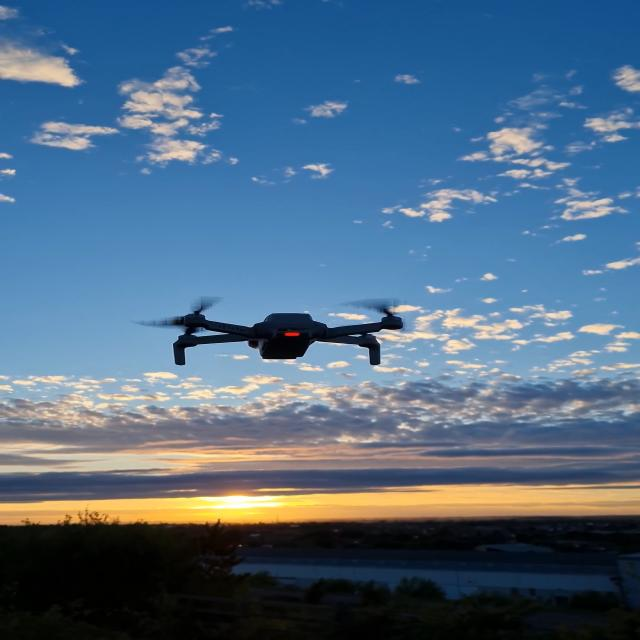Drone: (153, 292, 401, 372)
